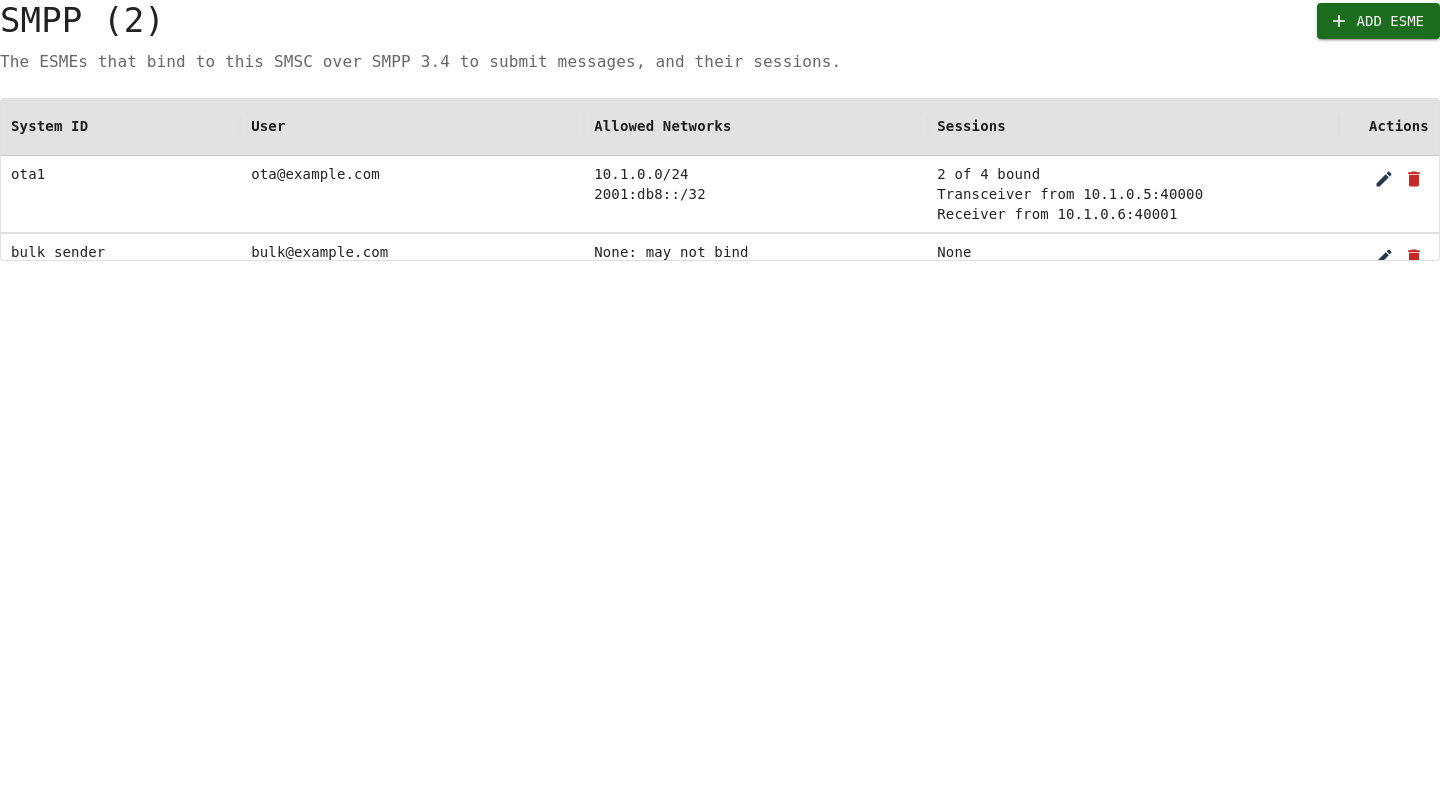
it: SMPP › edits an ESME, keeping its password when left blank
Click the button named "Edit ota1": (1384, 179) [1369, 164, 1399, 194]
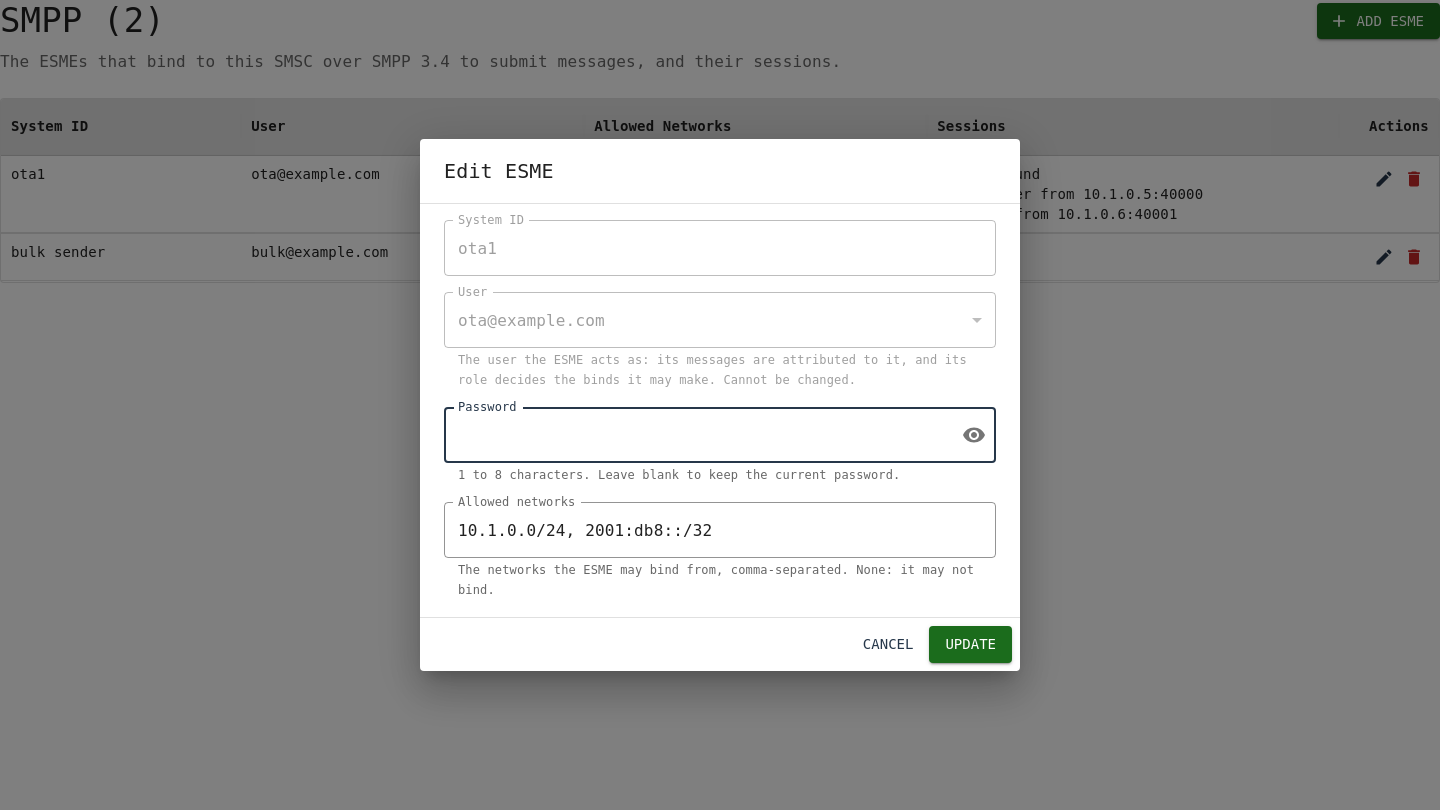
Now the field labelled "System ID" is disabled, box [444, 220, 996, 276]
Now the password field labelled "Password" is empty, box [444, 407, 946, 463]
Now the field labelled "Allowed networks" holds "10.1.0.0/24, 2001:db8::/32"
In the field labelled "Allowed networks": (720, 530) [444, 502, 996, 558], type "10.1.0.0/24"
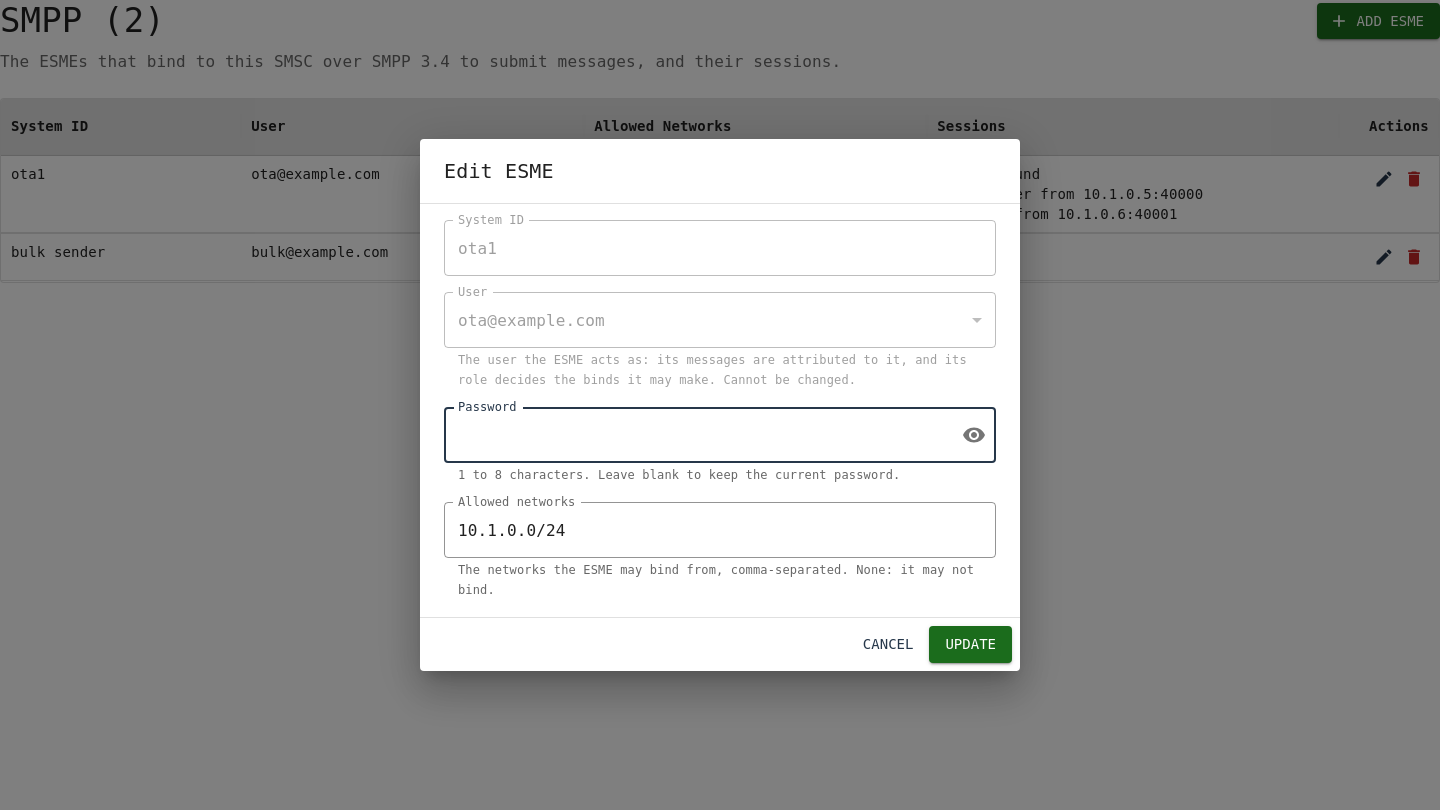
Click the button "Update": (971, 644) [929, 626, 1012, 662]
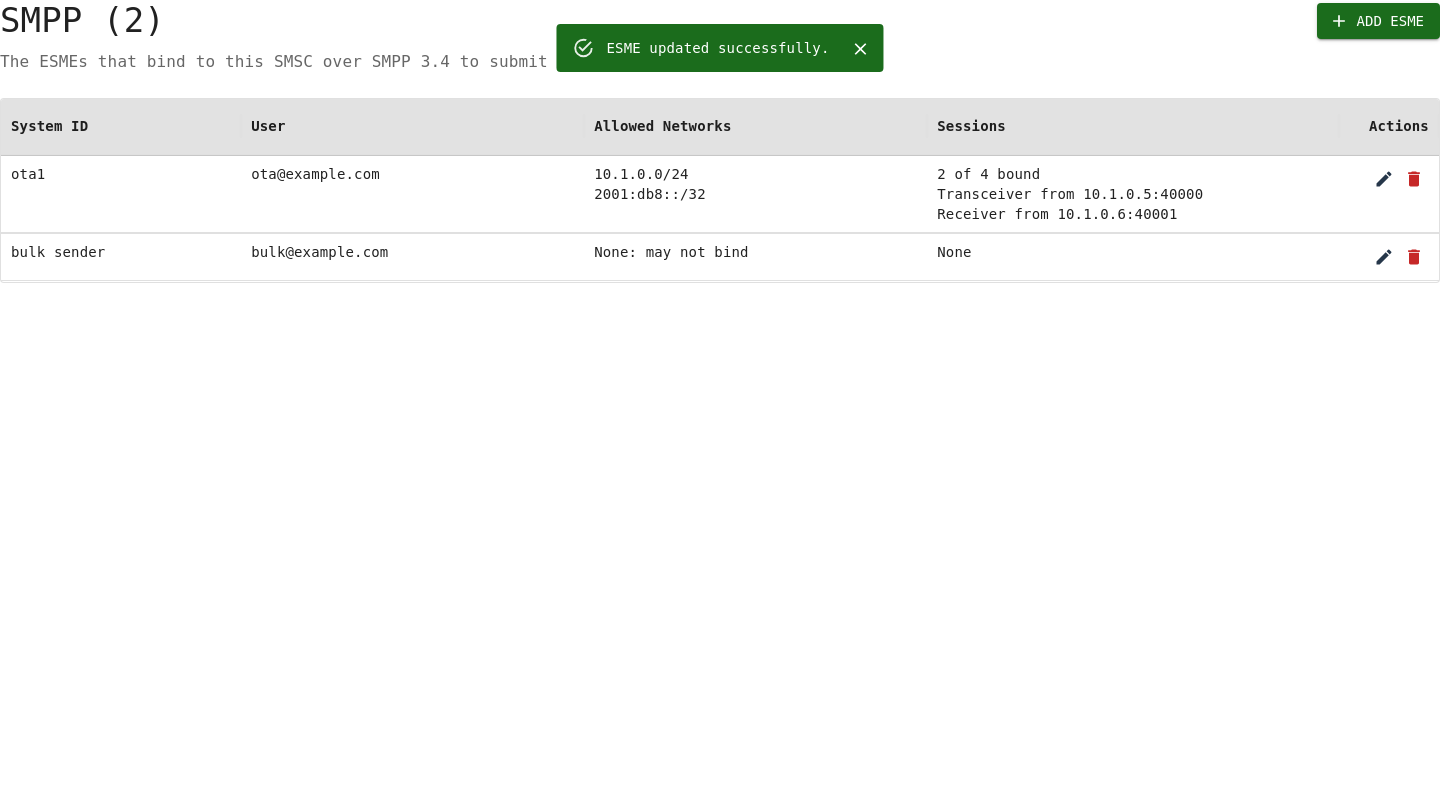
Now the text "ESME updated successfully." is shown, box [606, 40, 830, 56]
